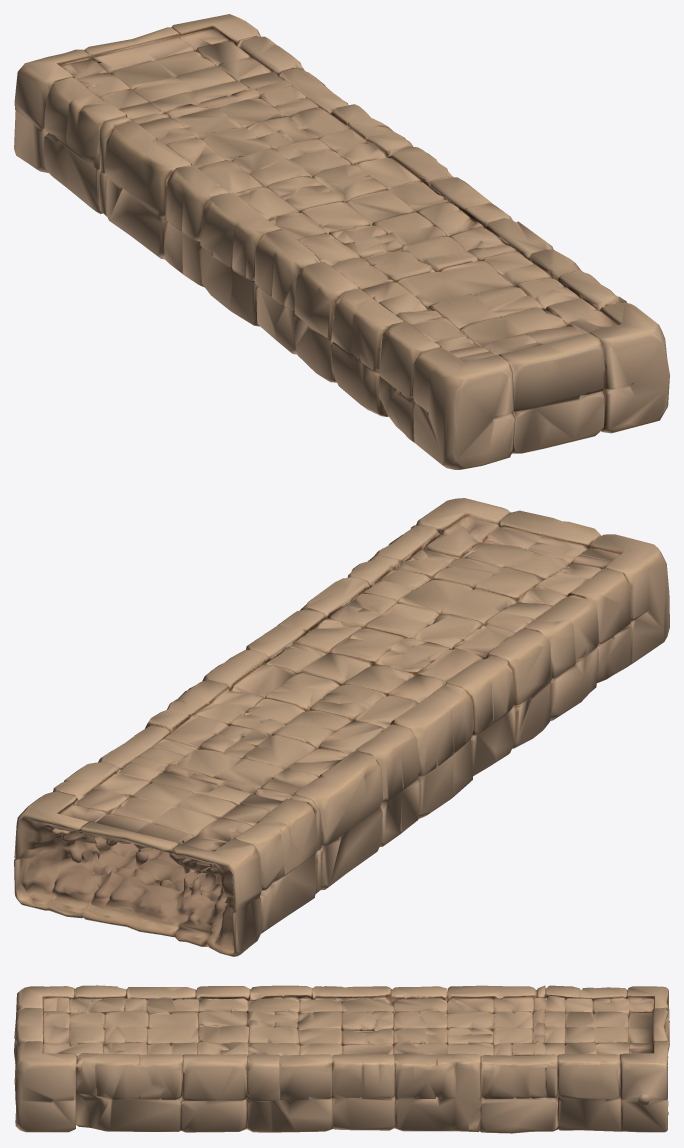
The model's file is camino_de_ladrillos_de_piedra.glb.
3 views of the same model, one above another, from view 1: azimuth 30°, elevation 25°; view 2: azimuth 150°, elevation 25°; view 3: azimuth 270°, elevation 25° (orthographic). The views are drawn at different scales.
Visible parts, largest first — view 1: camino_de_ladrillos_de_piedra; view 2: camino_de_ladrillos_de_piedra; view 3: camino_de_ladrillos_de_piedra.
Part boxes in pixels (x1=…): camino_de_ladrillos_de_piedra: x1=14, y1=14, x2=669, y2=469; camino_de_ladrillos_de_piedra: x1=14, y1=498, x2=669, y2=956; camino_de_ladrillos_de_piedra: x1=14, y1=985, x2=669, y2=1133.
Size of what is drawn, in the model's own units: 1.19 by 0.4801 by 4.
Materials: 1 (1 with a texture image).
